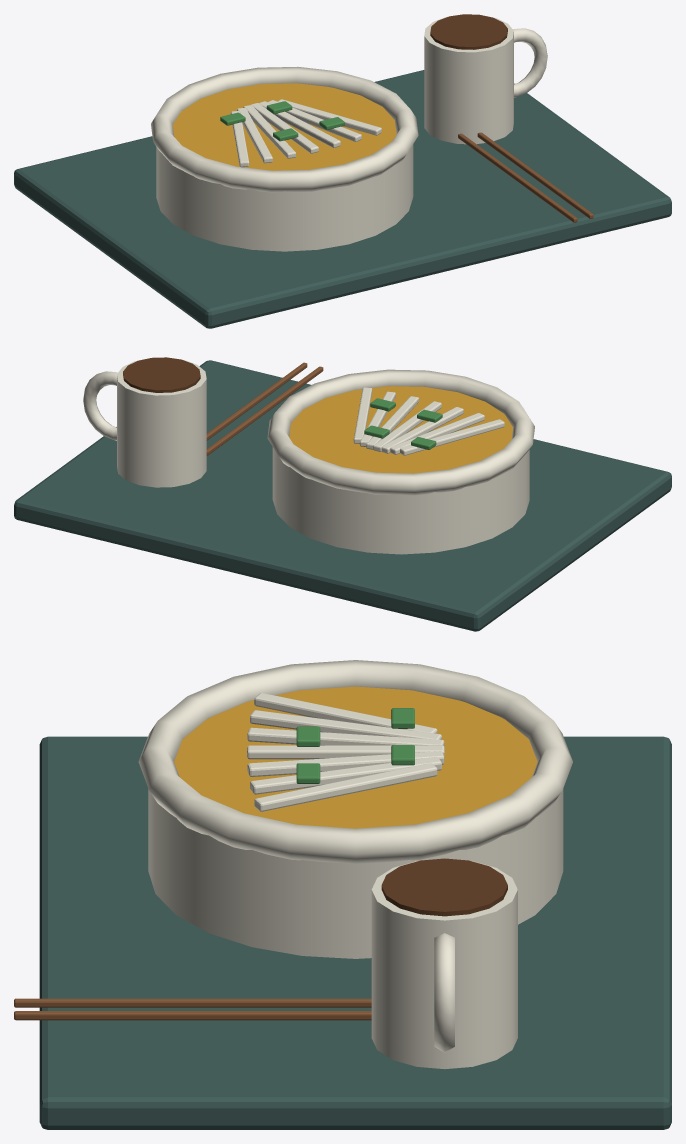
File: hawker_meal.glb
3 renders of one model, top to bottom at view 1: azimuth 30°, elevation 25°; view 2: azimuth 150°, elevation 25°; view 3: azimuth 270°, elevation 25°, orthographic. The views are drawn at different scales.
Parts seen in each view (by area): view 1: hawker_meal; view 2: hawker_meal; view 3: hawker_meal.
Boxes of the visible parts, x1,y1,x2,y2 form: hawker_meal: (14, 14, 671, 328); hawker_meal: (14, 357, 671, 631); hawker_meal: (14, 660, 671, 1129).
Bounding box in the file's own units: 0.44 × 0.1035 × 0.333.
